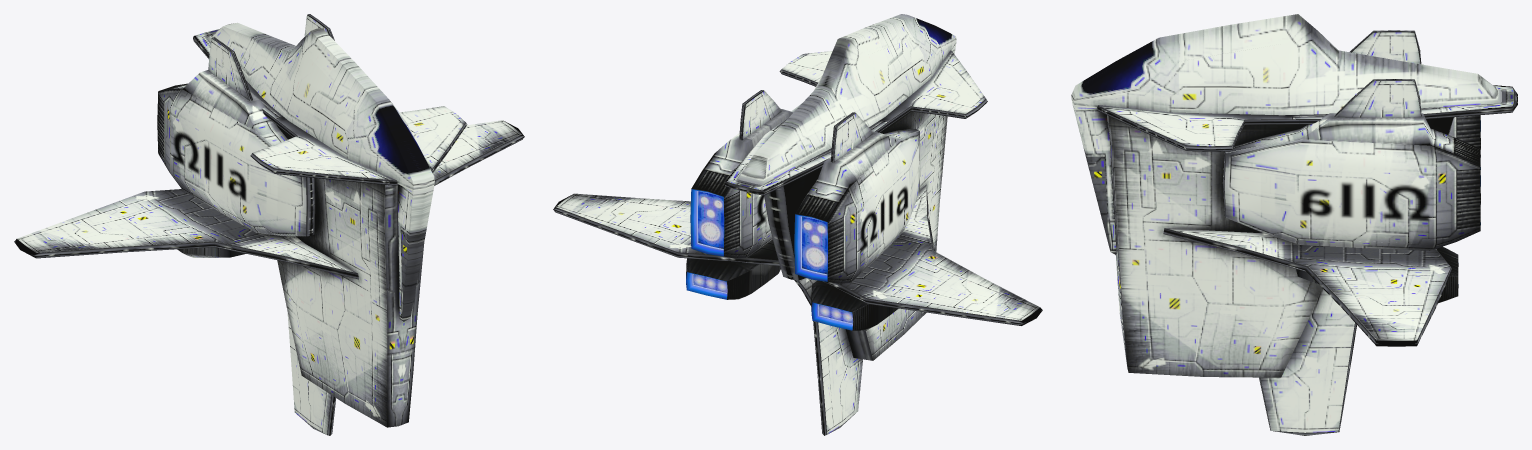
The model's file is admonisher_omegaiia.gltf.
3 renders of one model, left to right at view 1: azimuth 30°, elevation 25°; view 2: azimuth 150°, elevation 25°; view 3: azimuth 270°, elevation 25°, orthographic. The views are drawn at different scales.
Parts seen in each view (by area): view 1: body; view 2: body; view 3: body.
Boxes of the visible parts, x1,y1,x2,y2 form: body: [14, 14, 524, 435]; body: [553, 14, 1042, 435]; body: [1071, 14, 1517, 435].
Bounding box in the file's own units: 41.58 × 32.09 × 30.95.
Materials: 1 (1 with a texture image).
